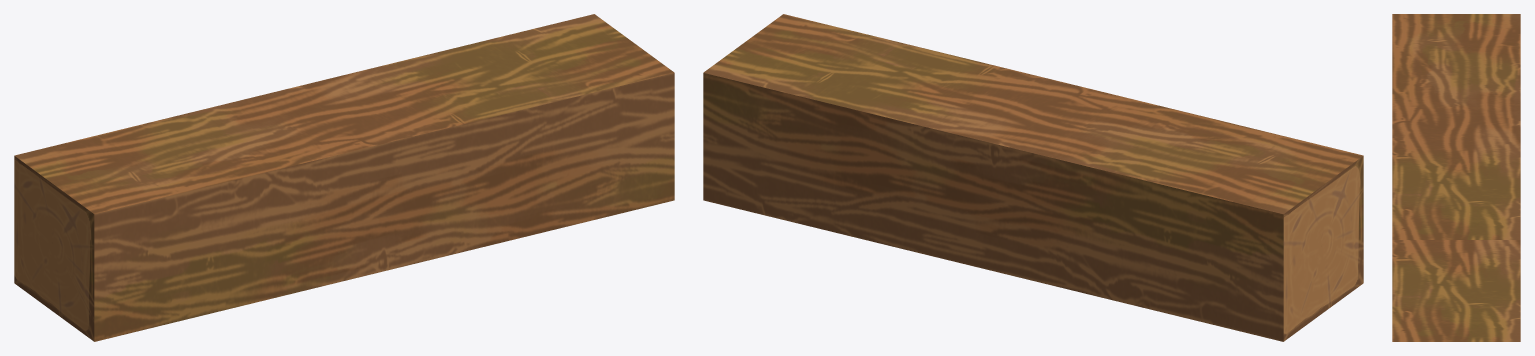
The model's file is hole_cover_straight_half.gltf.
The picture shows the model from 3 angles, left to right: view 1: azimuth 30°, elevation 25°; view 2: azimuth 150°, elevation 25°; view 3: azimuth 270°, elevation 25°; orthographic projection. The views are drawn at different scales.
Visible parts, largest first — view 1: HoleCover_StraightHalf; view 2: HoleCover_StraightHalf; view 3: HoleCover_StraightHalf.
Boxes of the visible parts, x1,y1,x2,y2 form: HoleCover_StraightHalf: (14, 14, 674, 341); HoleCover_StraightHalf: (703, 14, 1363, 341); HoleCover_StraightHalf: (1392, 14, 1520, 341).
Size of the model in its own units: 1 by 0.2102 by 0.2396.
1 material, 1 textured.
